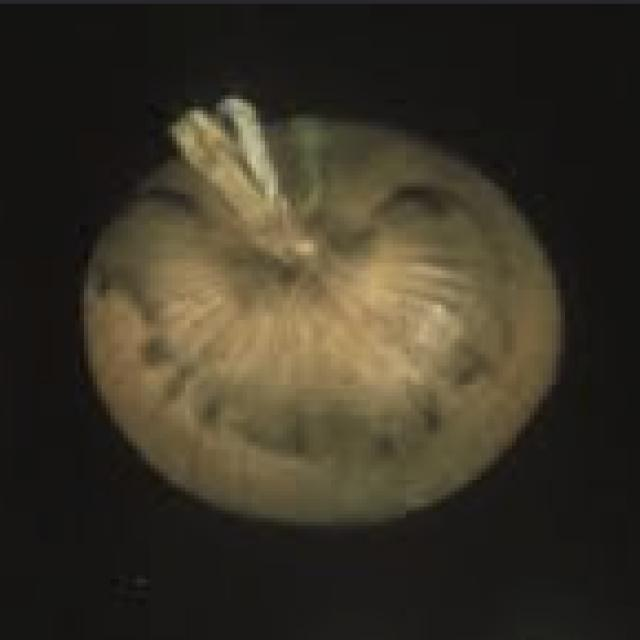mechanical_damage: (84, 99, 556, 522)
